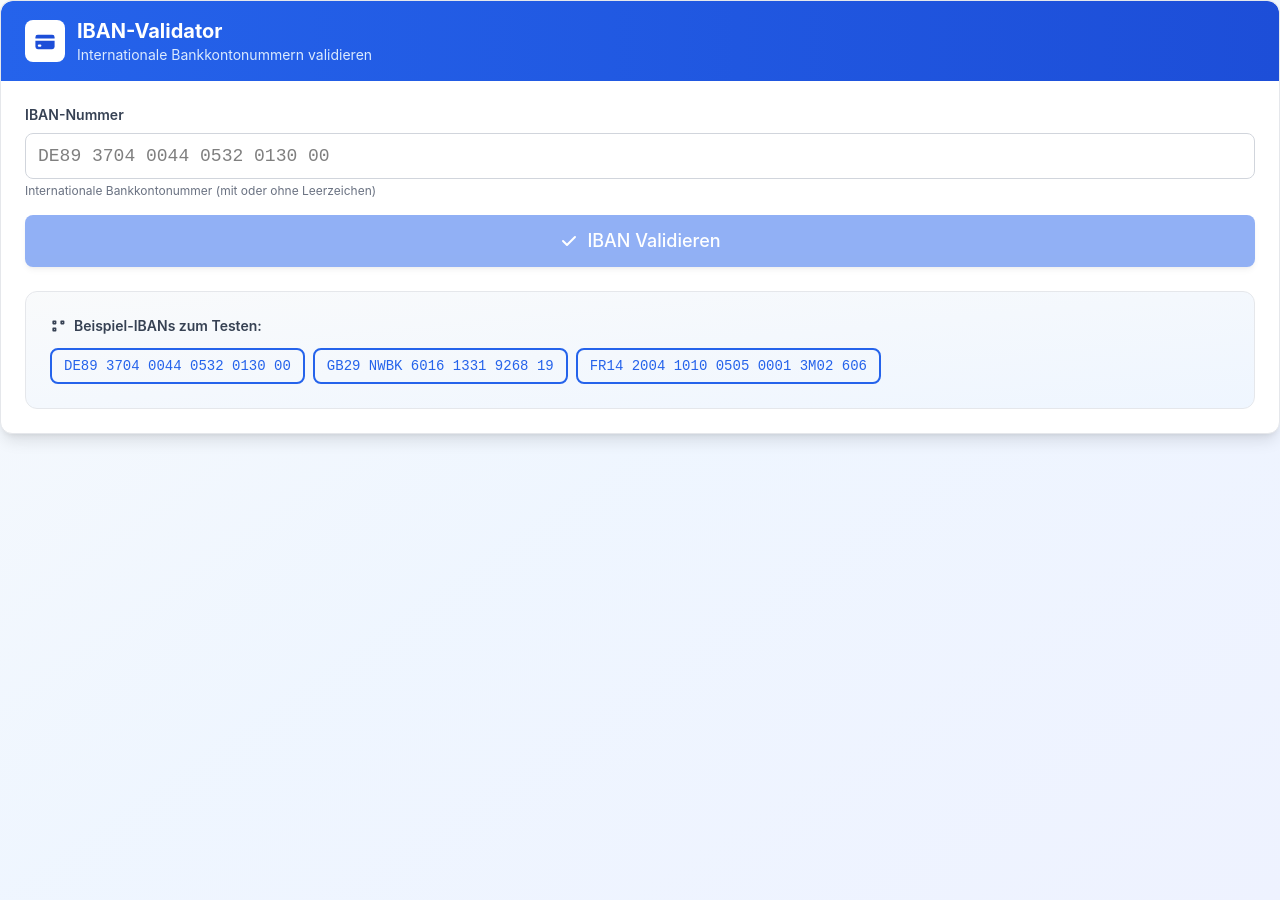
IbanValidator Component › sollte Fehler bei ungültiger IBAN anzeigen
Step 1. Type "DE00000000000000000000" into the field labelled "IBAN-Nummer" → (640, 156), box [25,133,1255,179]
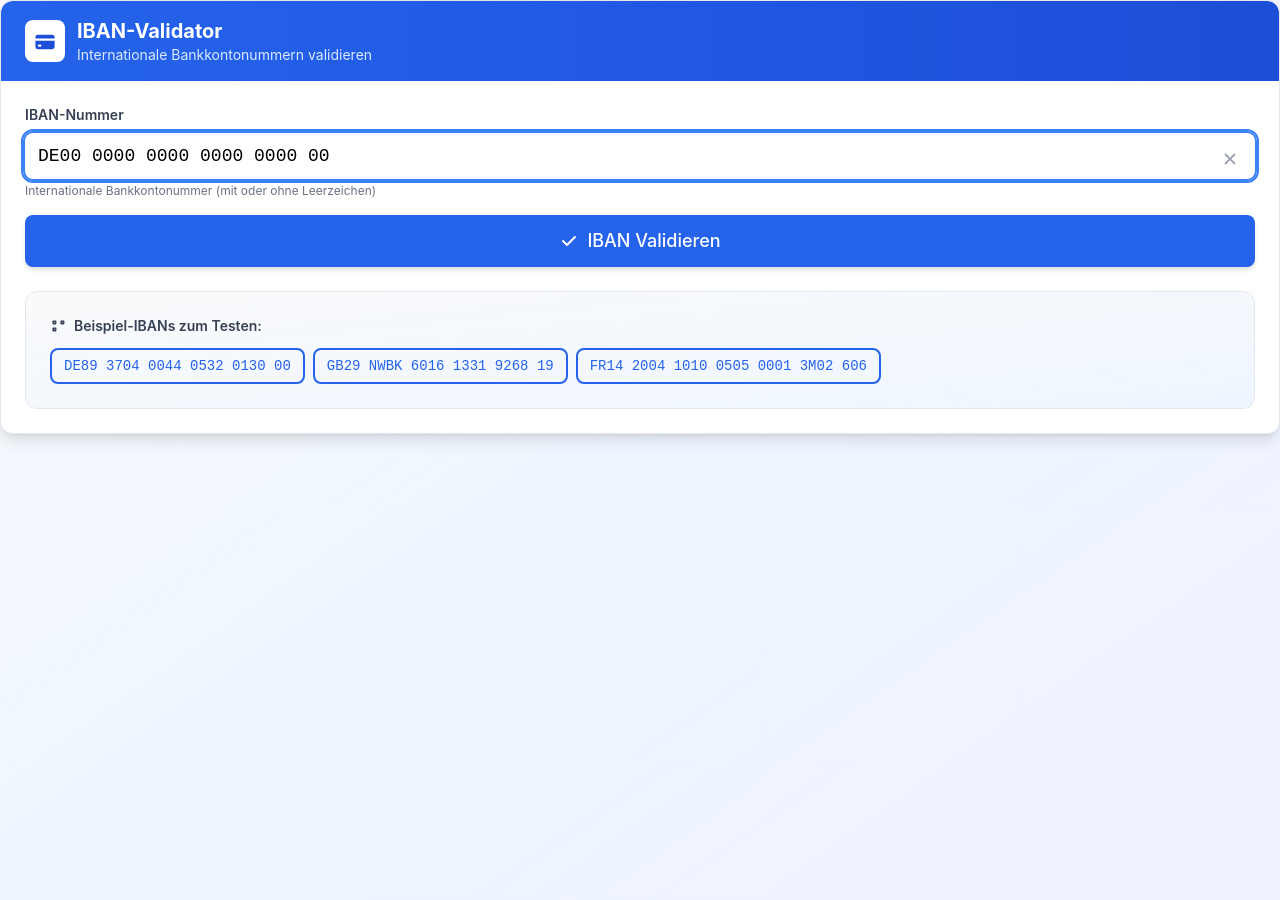
Step 2. Click the button "IBAN Validieren" → (640, 241), box [25,215,1255,267]
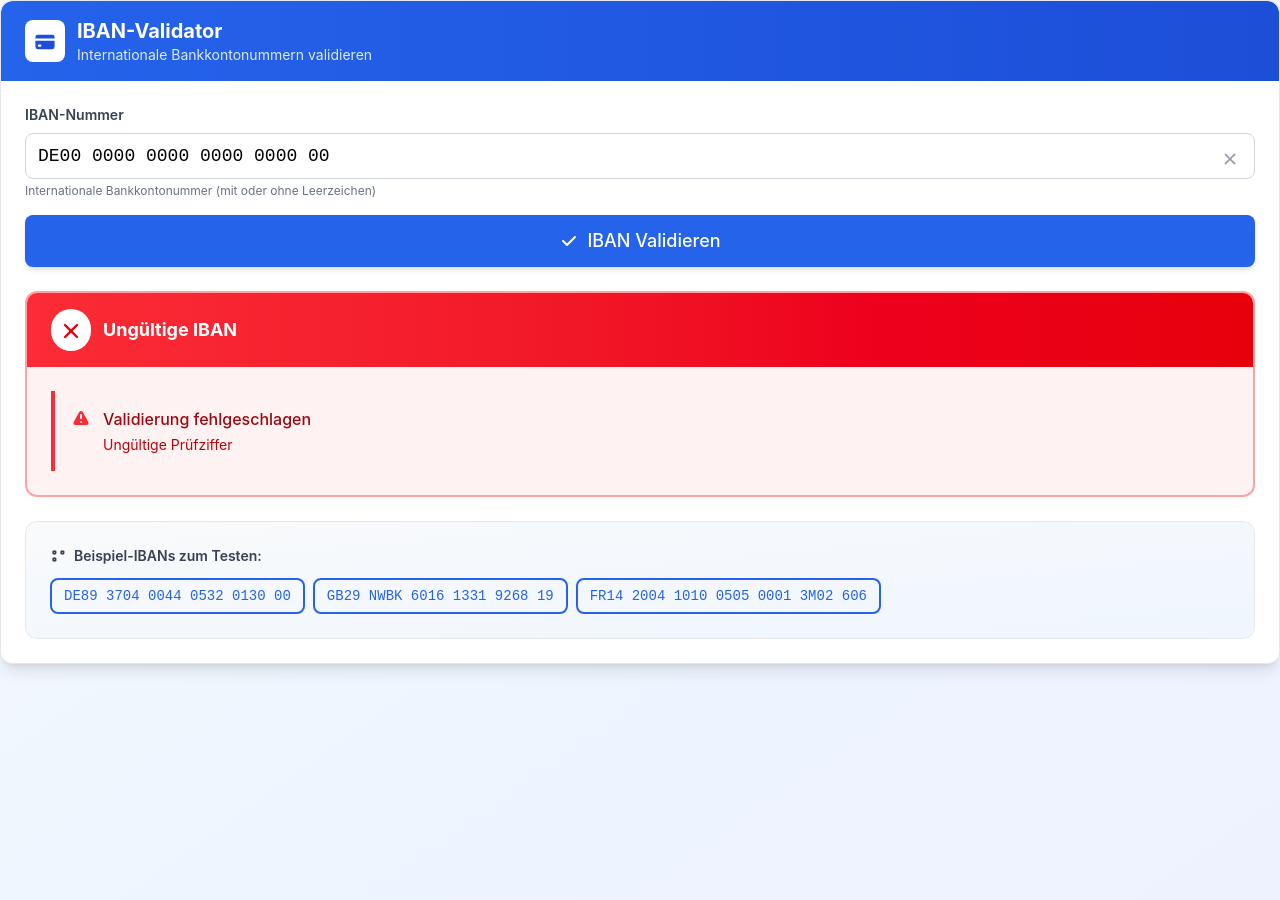
Expected: the heading "Ungültige IBAN" is shown, [103,316,237,344]
Expected: the text "Ungültige Prüfziffer" is shown, [103,436,232,453]
